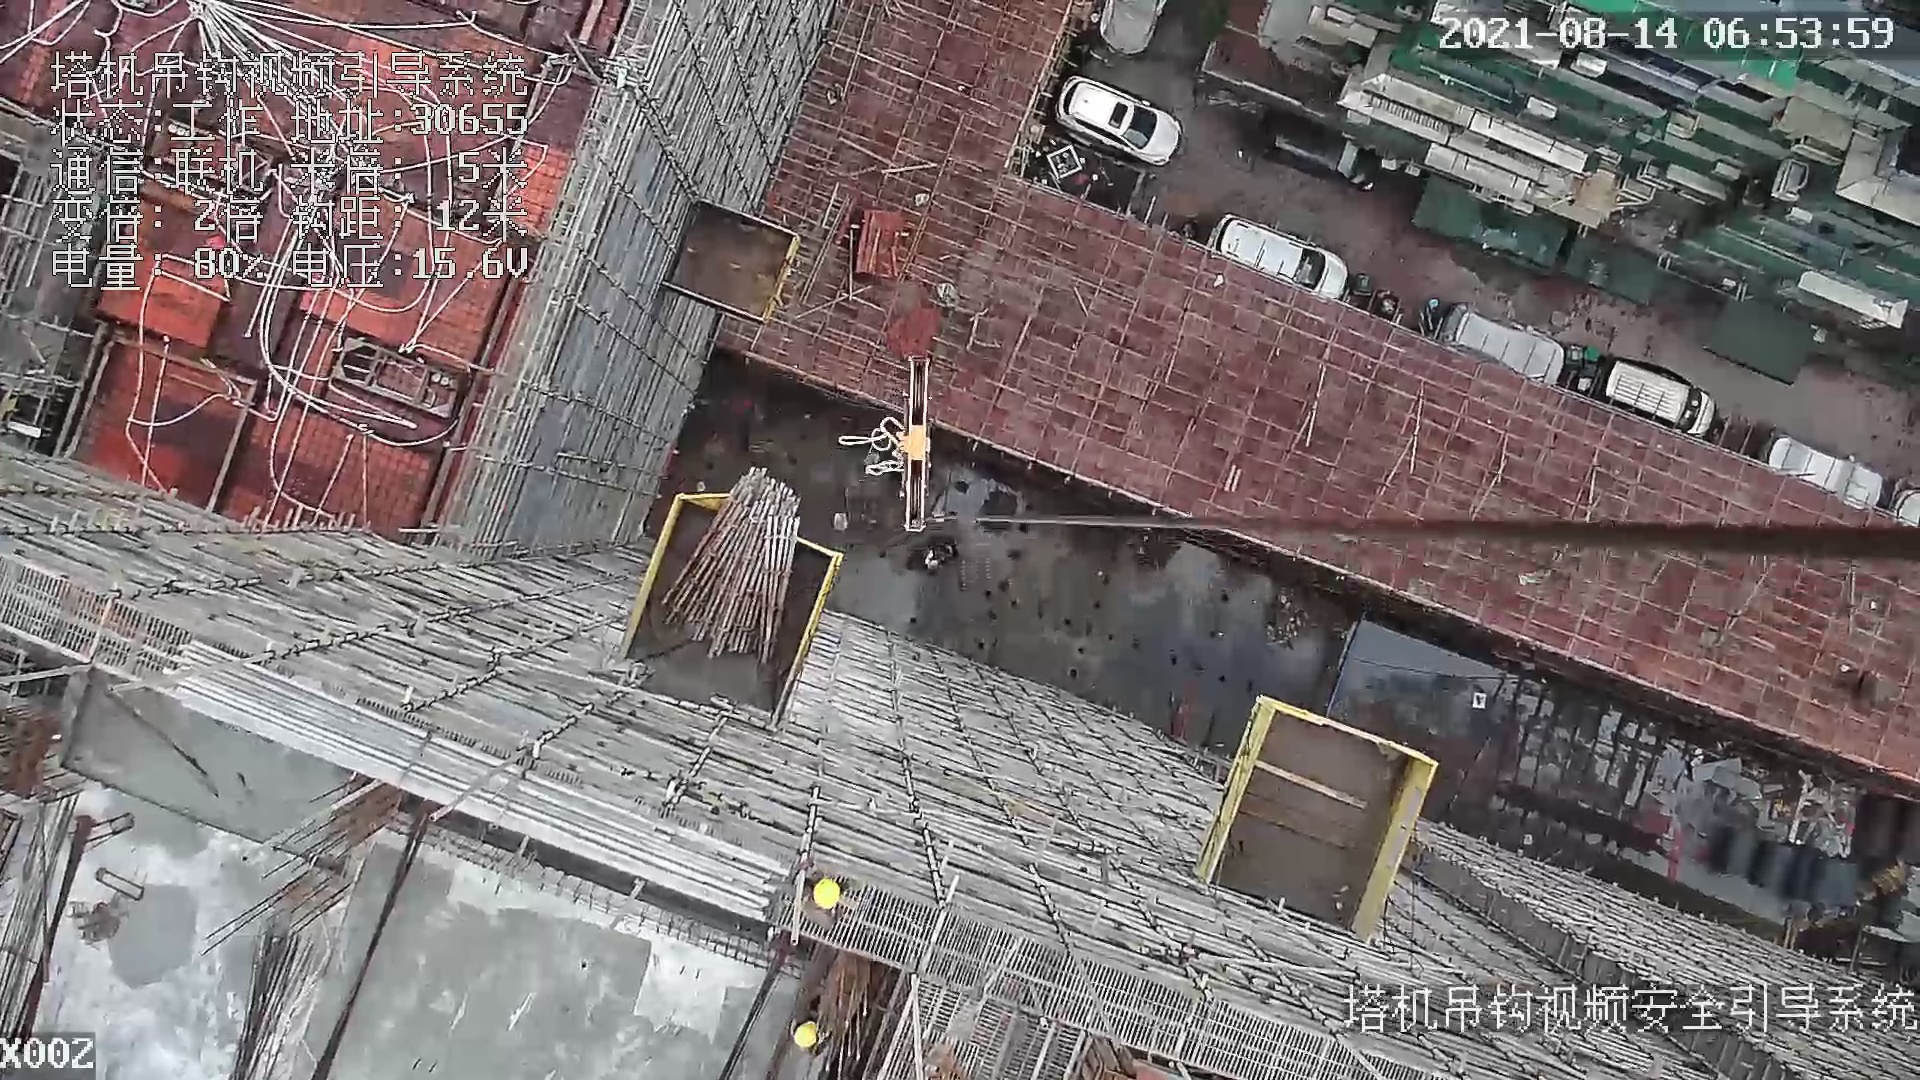helmet: (813, 879, 839, 910), (794, 1022, 818, 1049)
hook: (886, 351, 940, 541)
person: (790, 860, 846, 930), (786, 1003, 837, 1053)
rebar: (152, 642, 788, 920), (223, 929, 317, 1080)
scaffold: (661, 466, 801, 664)
